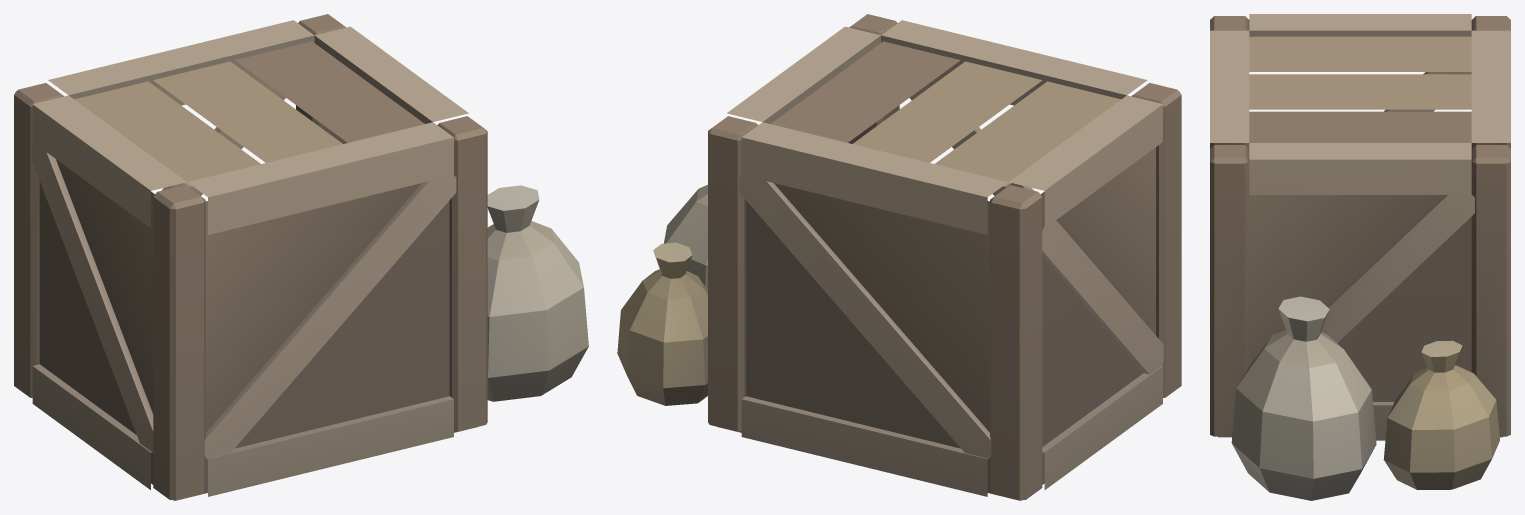
Rendered from crate.glb.
The picture shows the model from 3 angles, left to right: view 1: azimuth 30°, elevation 25°; view 2: azimuth 150°, elevation 25°; view 3: azimuth 270°, elevation 25°; orthographic projection. The views are drawn at different scales.
Size of the model in its own units: 1.61 by 0.99 by 0.96.
